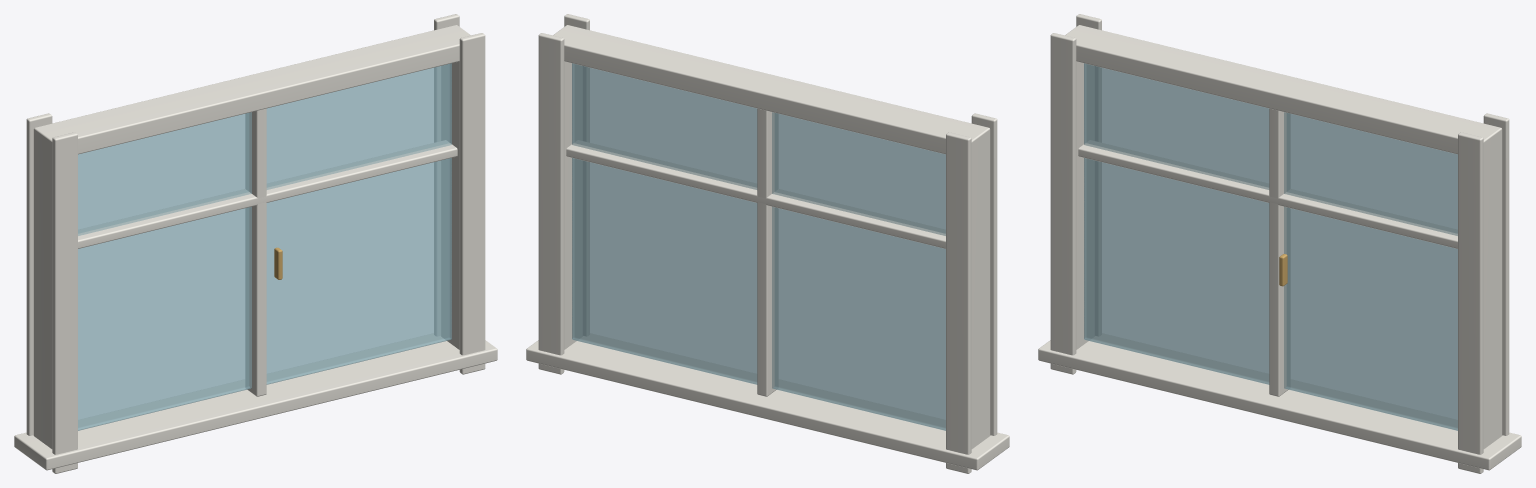
Rendered from window-double.glb.
3 renders of one model, left to right at view 1: azimuth 30°, elevation 25°; view 2: azimuth 150°, elevation 25°; view 3: azimuth 330°, elevation 25°, orthographic.
Parts seen in each view (by area): view 1: Glazing.003, Sill.003, Lintel.007, Architrave.030, Architrave.028, Transom.001, Jamb.014, Mullion.003, Jamb.015, Architrave.029, Architrave.031; view 2: Glazing.003, Sill.003, Lintel.007, Architrave.031, Architrave.029, Transom.001, Jamb.014, Mullion.003, Jamb.015, Architrave.028, Architrave.030; view 3: Glazing.003, Sill.003, Lintel.007, Architrave.028, Architrave.030, Transom.001, Jamb.015, Mullion.003, Jamb.014, Architrave.031, Architrave.029.
Part boxes in pixels (x1,y1,x2,y2): Glazing.003: (78, 63, 451, 430); Sill.003: (14, 333, 497, 470); Lintel.007: (34, 25, 470, 154); Architrave.030: (459, 33, 485, 374); Architrave.028: (52, 132, 77, 473); Transom.001: (78, 140, 457, 248); Jamb.014: (33, 127, 52, 448); Mullion.003: (245, 108, 266, 396); Jamb.015: (441, 25, 459, 349); Architrave.029: (26, 113, 52, 435); Architrave.031: (434, 14, 459, 336); Glazing.003: (572, 63, 945, 430); Sill.003: (526, 333, 1009, 470); Lintel.007: (553, 25, 989, 154); Architrave.031: (538, 33, 564, 374); Architrave.029: (946, 132, 971, 473); Transom.001: (566, 140, 945, 248); Jamb.014: (971, 126, 990, 448); Mullion.003: (757, 108, 778, 396); Jamb.015: (564, 61, 582, 349); Architrave.028: (971, 113, 997, 435); Architrave.030: (564, 14, 589, 336); Glazing.003: (1084, 63, 1457, 430); Sill.003: (1038, 333, 1521, 470); Lintel.007: (1065, 25, 1501, 154); Architrave.028: (1050, 33, 1076, 374); Architrave.030: (1458, 132, 1483, 473); Transom.001: (1078, 140, 1457, 248); Jamb.015: (1483, 125, 1502, 448); Mullion.003: (1269, 108, 1290, 396); Jamb.014: (1076, 61, 1094, 349); Architrave.031: (1483, 113, 1509, 435); Architrave.029: (1076, 14, 1101, 336).
Size of the model in its own units: 1.92 by 1.36 by 0.24.
